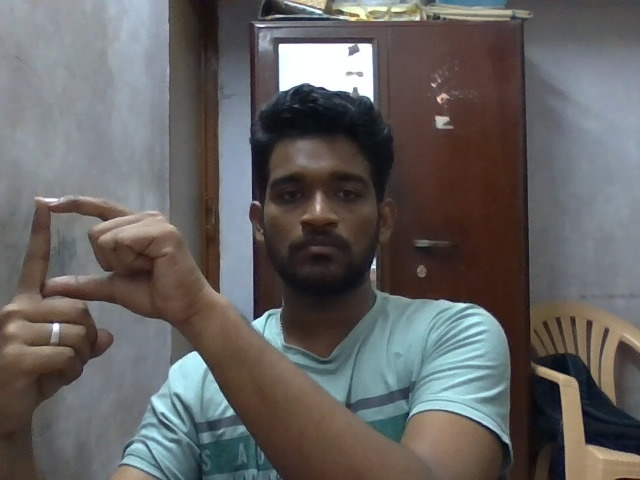D: (3, 185, 201, 420)
